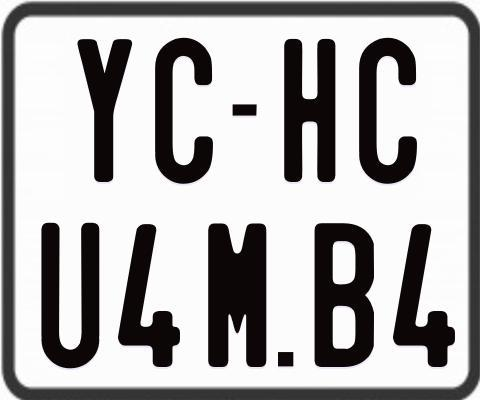4: (115, 223, 181, 369), (391, 222, 453, 366)
B: (312, 222, 375, 372)
C: (359, 35, 422, 184), (155, 36, 219, 182)
H: (282, 39, 336, 182)
M: (207, 220, 265, 367)
U: (40, 221, 102, 372)
Y: (76, 36, 130, 179)
